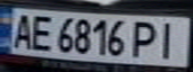1: (90, 17, 112, 56)
6: (106, 17, 133, 57), (51, 15, 75, 54)
8: (72, 16, 93, 55)
A: (6, 11, 36, 50)
E: (27, 11, 57, 52)
I: (151, 19, 187, 60)
P: (127, 18, 163, 58)
